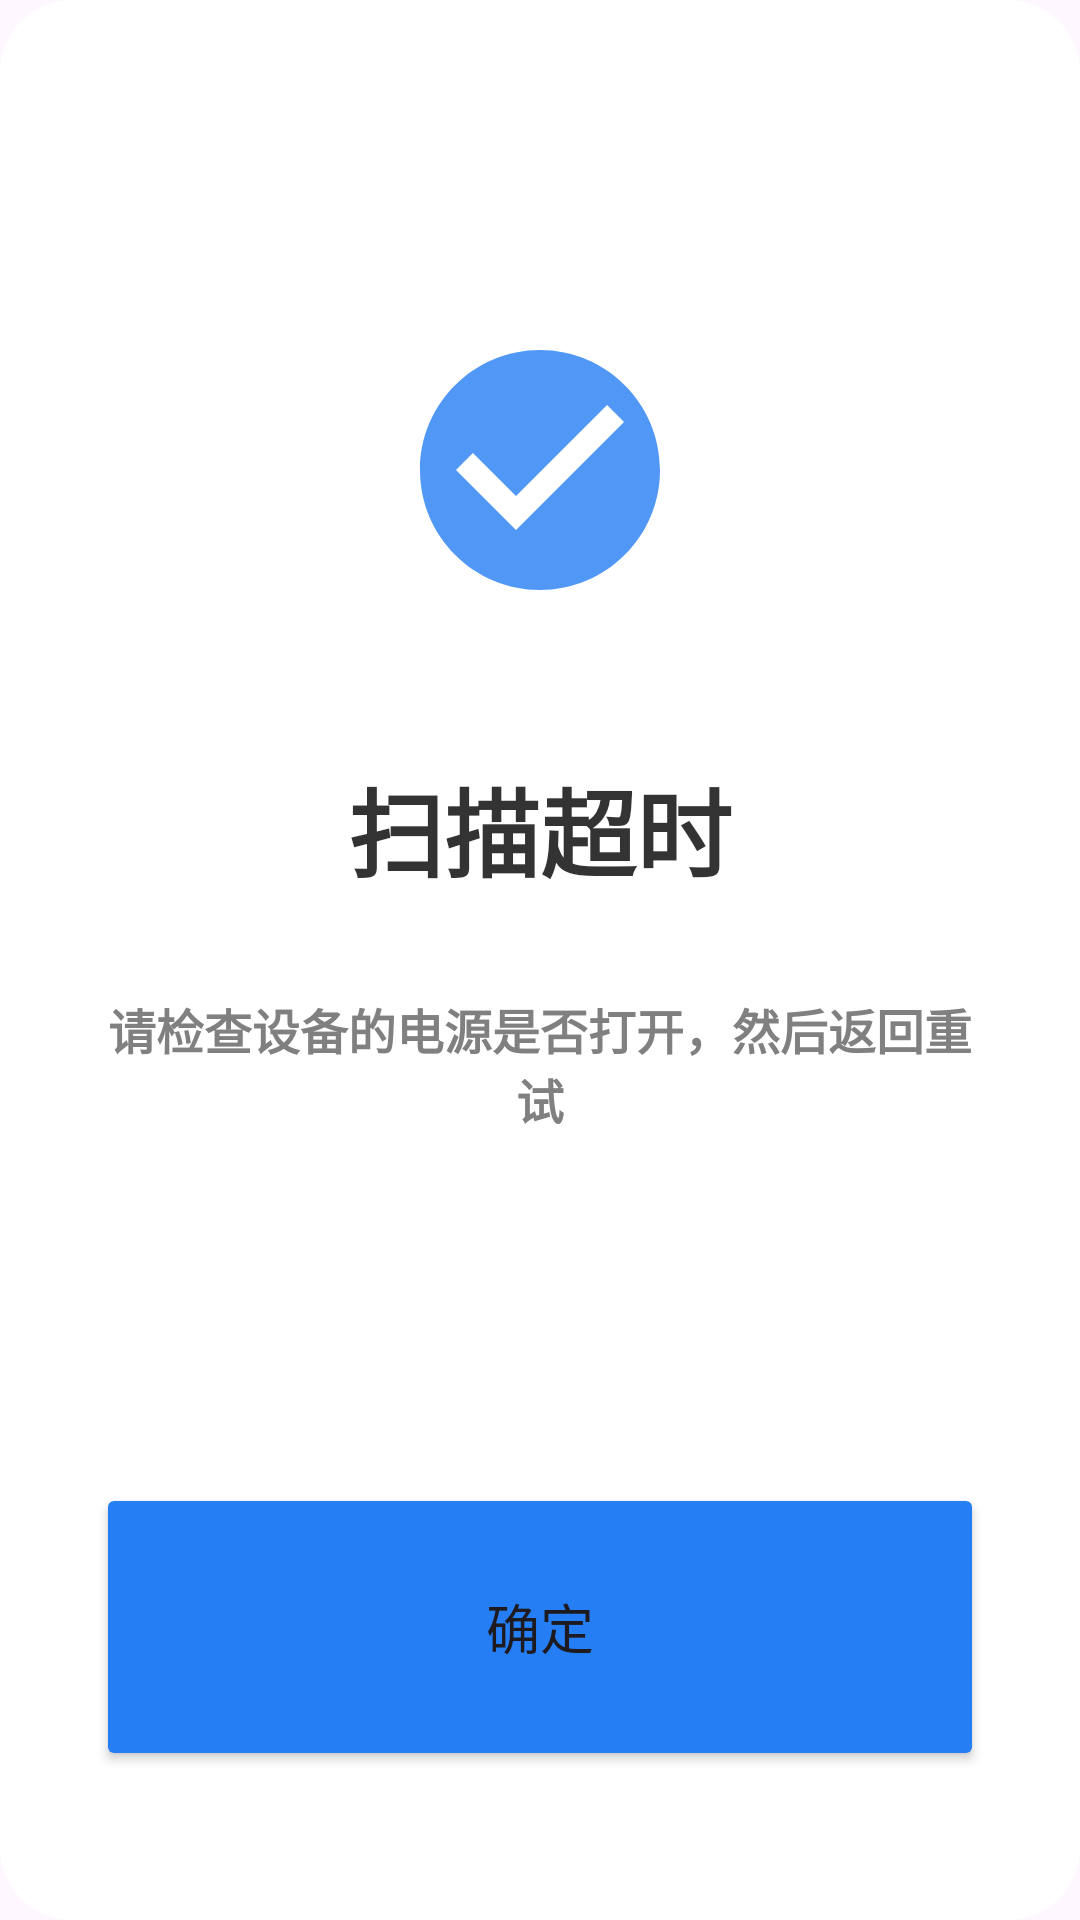

Icons on this 1080×1920 Android screen, each with the point to tap as (x=x, y=y):
check circle: (x=540, y=470)
